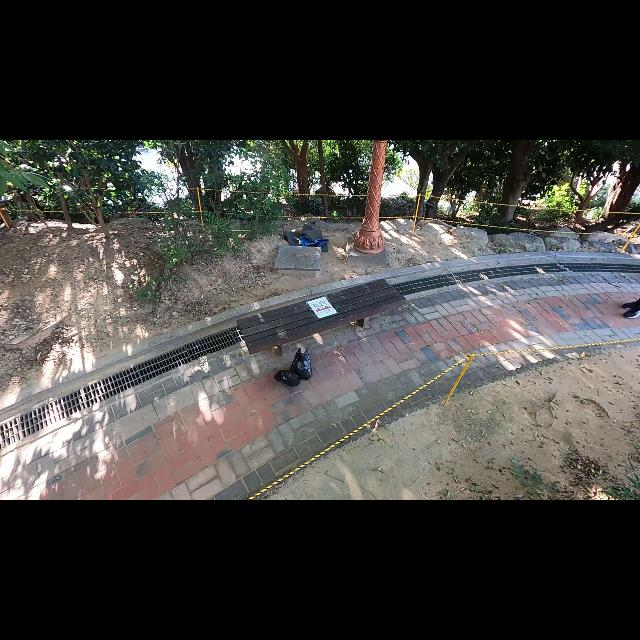trash: (287, 346, 317, 380), (270, 367, 304, 389)
